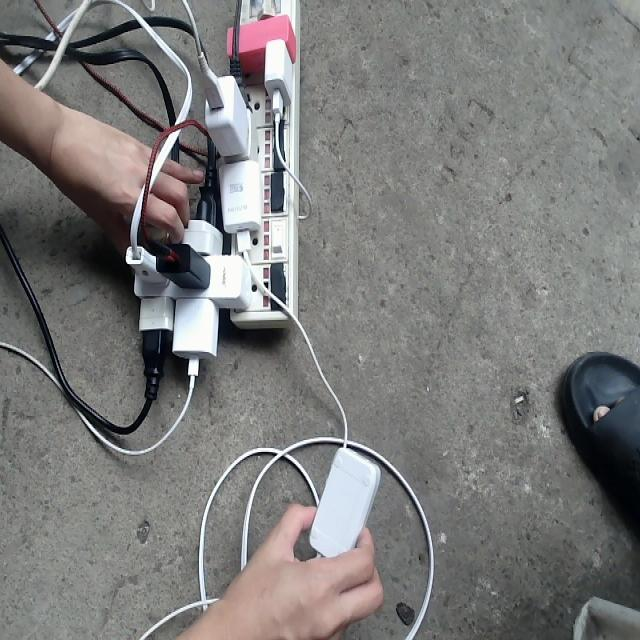-: (125, 0, 298, 401)
